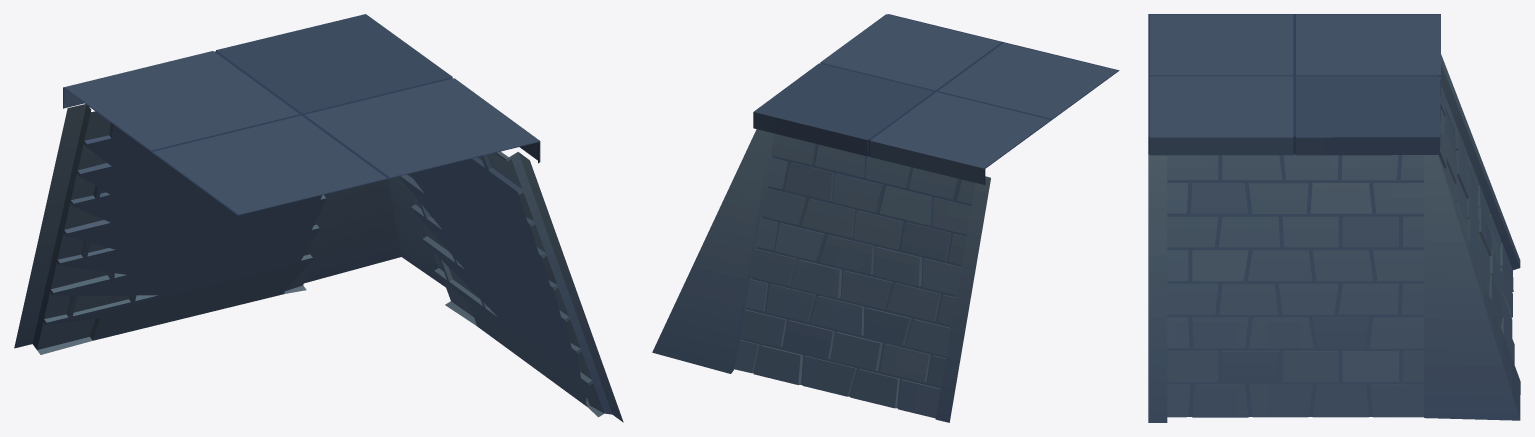
File: fbx-castle-tile-corner2 1.fbx
The picture shows the model from 3 angles, left to right: view 1: azimuth 30°, elevation 25°; view 2: azimuth 150°, elevation 25°; view 3: azimuth 270°, elevation 25°; orthographic projection. The views are drawn at different scales.
Parts seen in each view (by area): view 1: mesh-walls, mesh-walls.001; view 2: mesh-walls, mesh-walls.001; view 3: mesh-walls, mesh-walls.001.
Part boxes in pixels (x1=…): mesh-walls: x1=14, y1=104, x2=623, y2=422; mesh-walls.001: x1=63, y1=14, x2=540, y2=215; mesh-walls: x1=652, y1=129, x2=990, y2=422; mesh-walls.001: x1=753, y1=14, x2=1119, y2=184; mesh-walls: x1=1148, y1=54, x2=1520, y2=422; mesh-walls.001: x1=1148, y1=14, x2=1440, y2=155.
Bounding box in the file's own units: 511 × 380 × 509.
